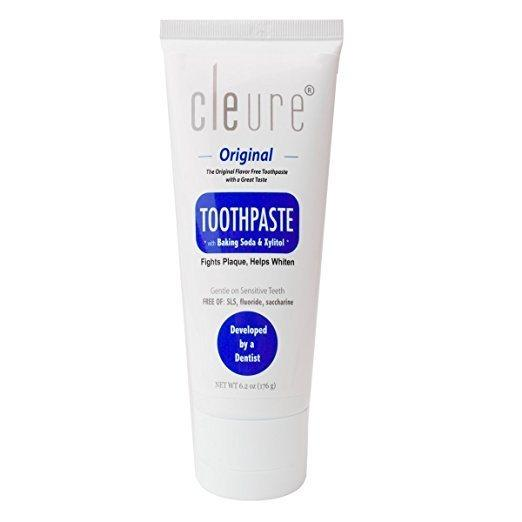toothpaste: (147, 4, 367, 506)
